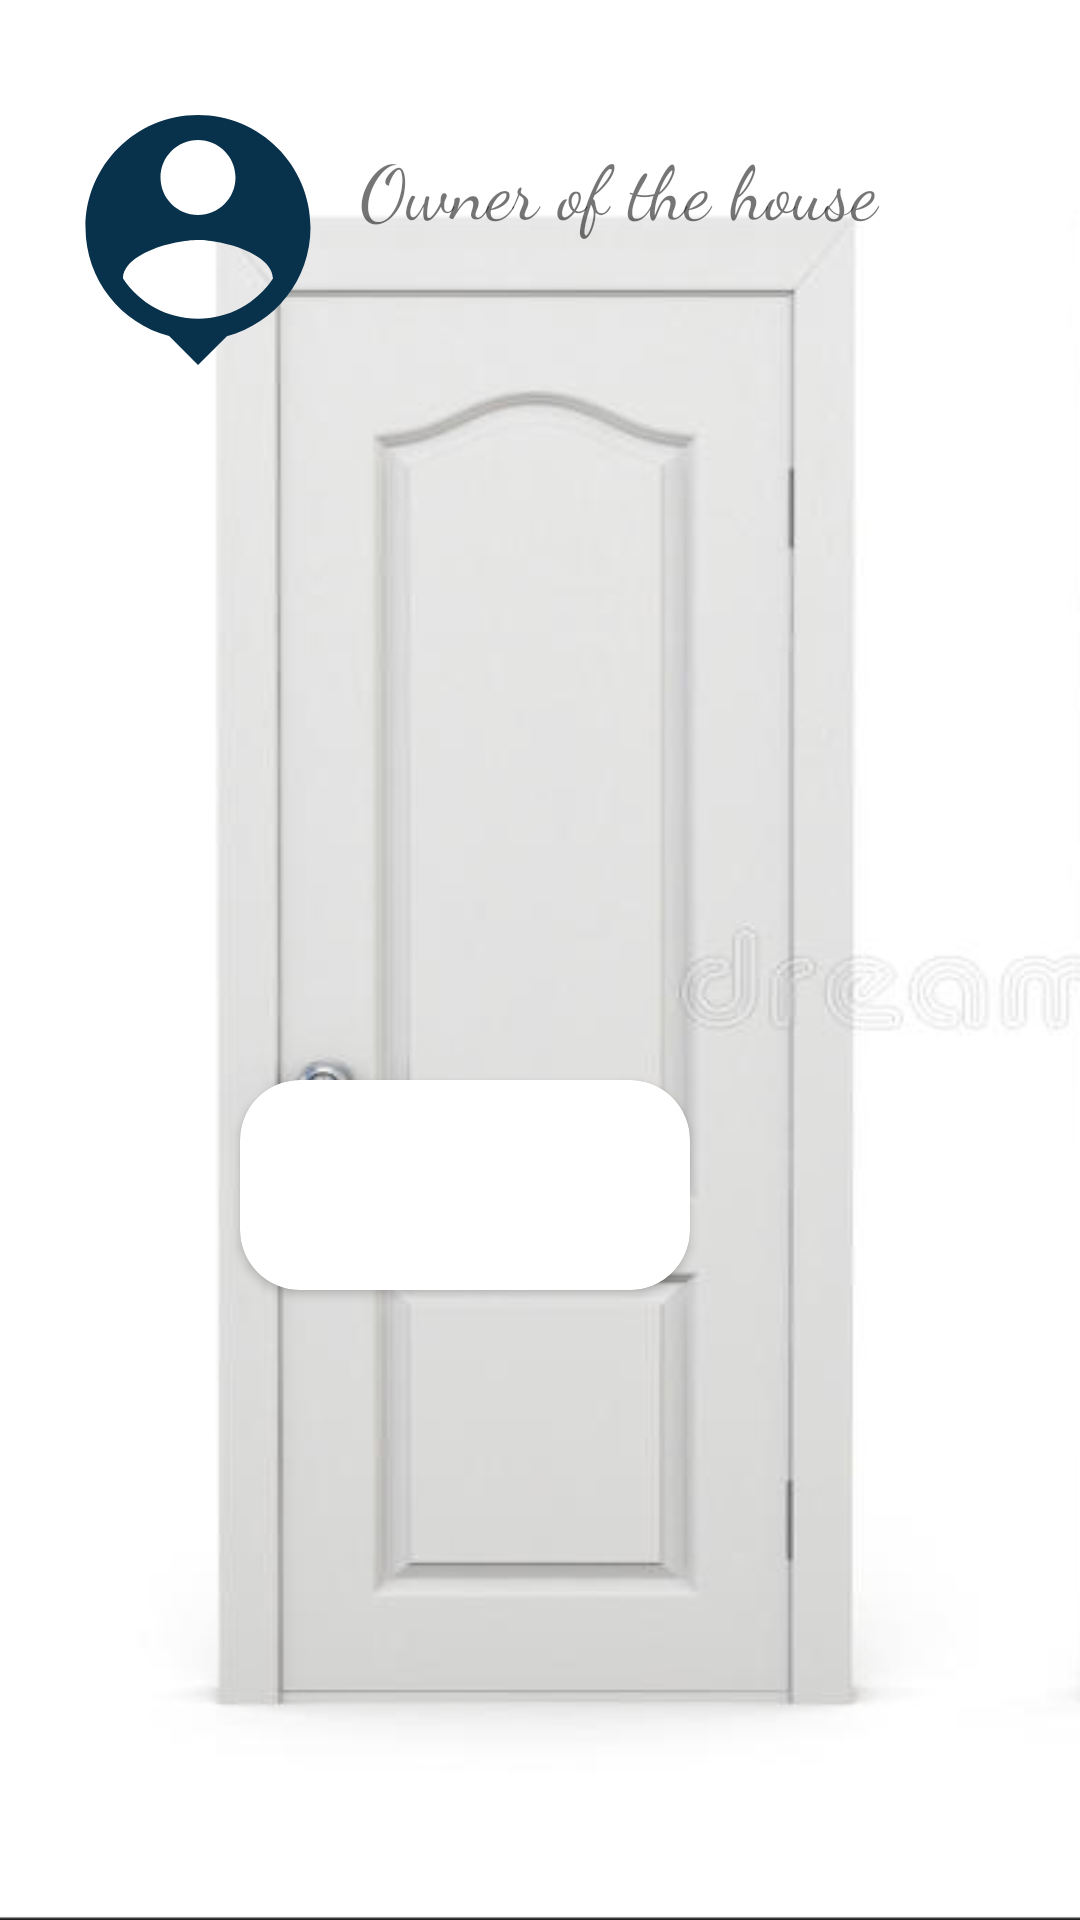

Point at icon controls on the screen. Image size 1080 × 1920, points as [x,y].
person pin: [216,252]
